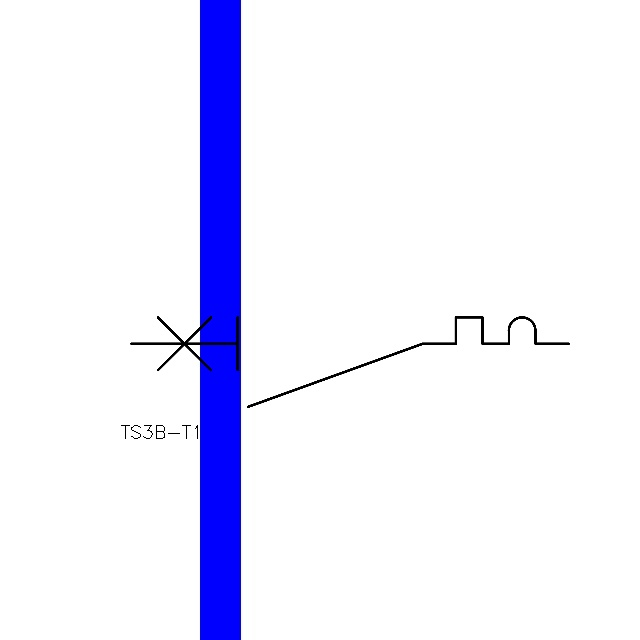interruptor_termomagnetico: (120, 306, 580, 418)
